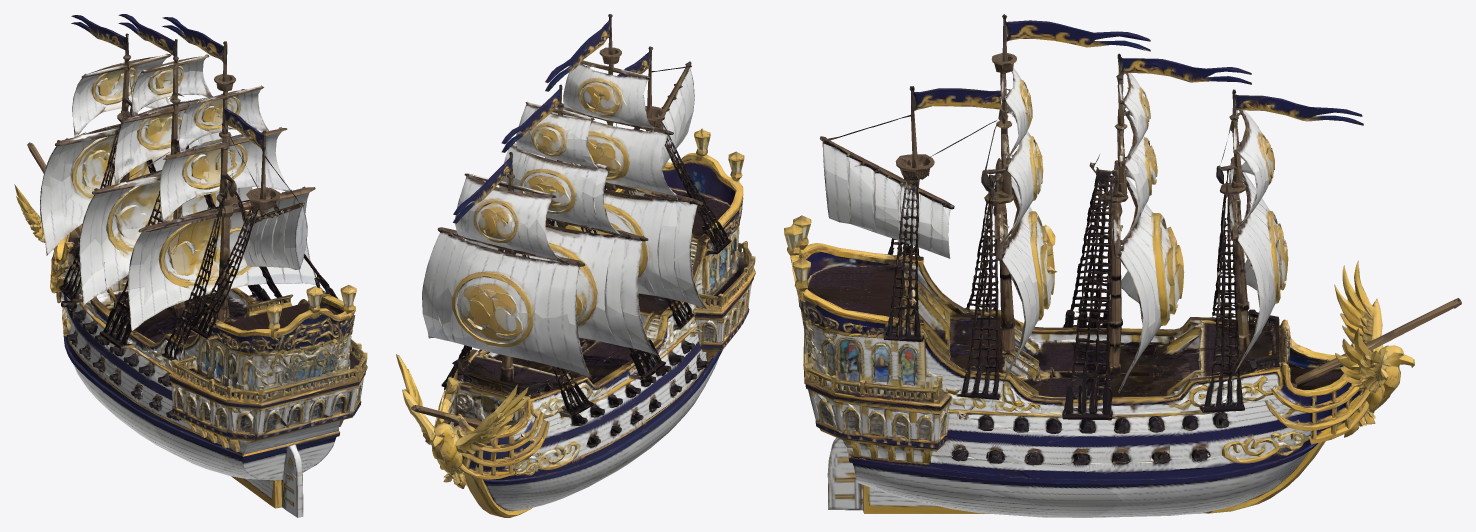
The model's file is sovereign.glb.
3 renders of one model, left to right at view 1: azimuth 30°, elevation 25°; view 2: azimuth 150°, elevation 25°; view 3: azimuth 270°, elevation 25°, orthographic. The views are drawn at different scales.
Bounding box in the file's own units: 45.36 × 96.49 × 120.
Materials: 1 (1 with a texture image).
